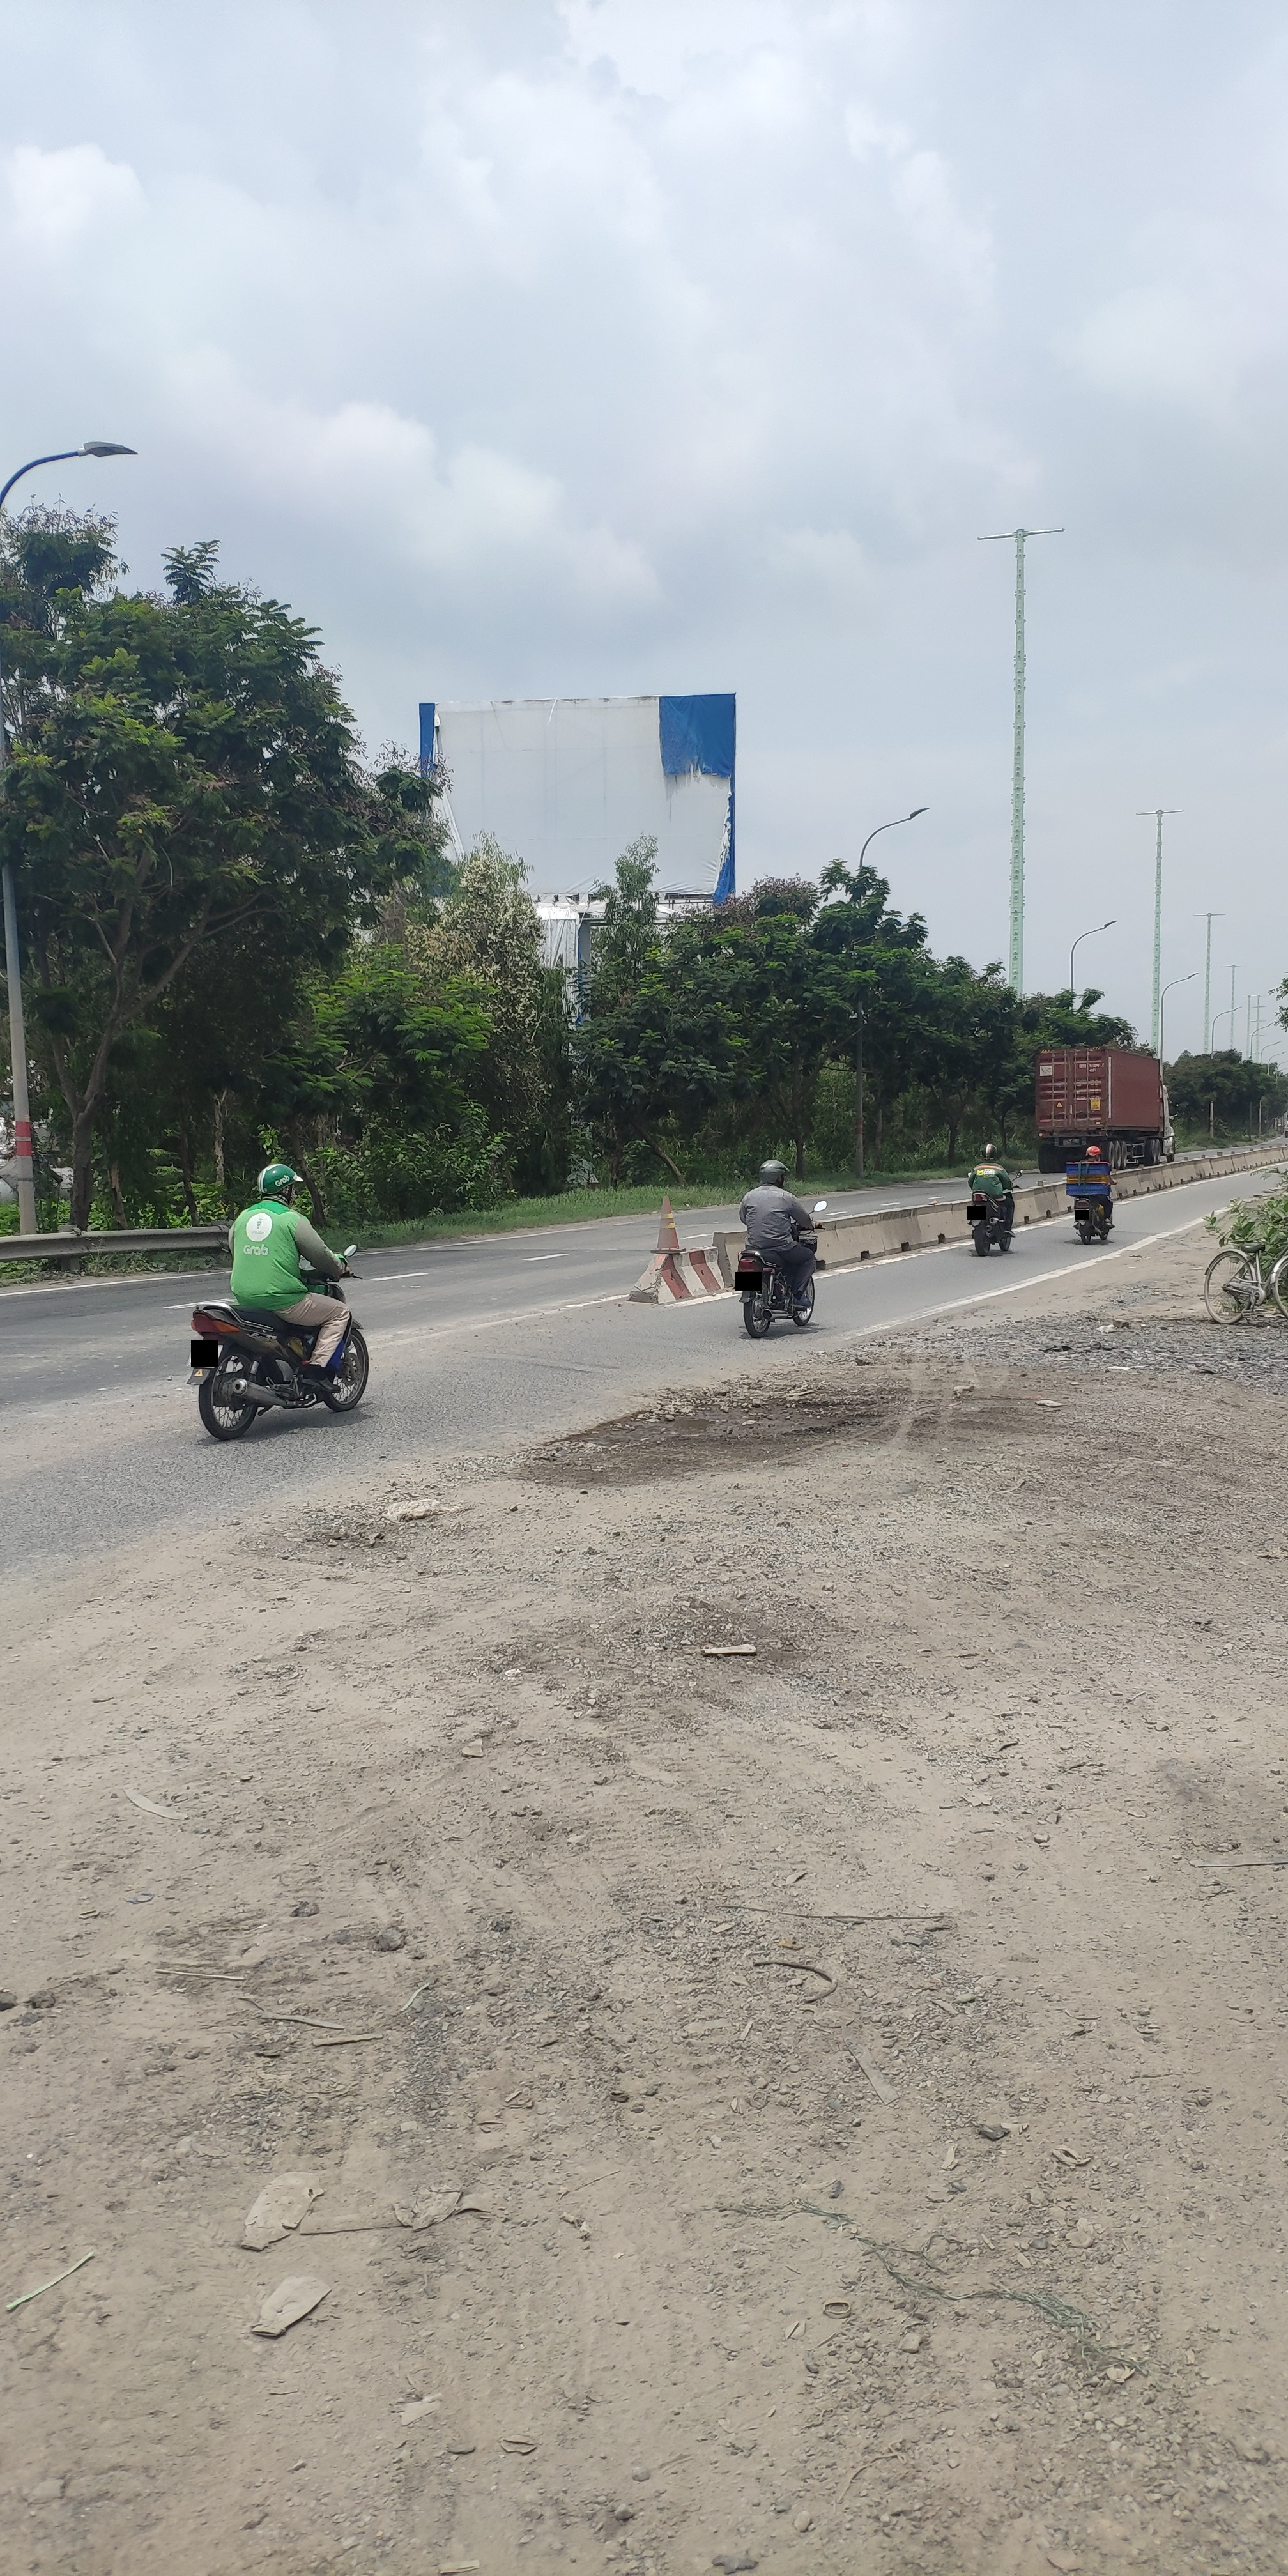hole: (628, 1377, 851, 1472), (284, 1505, 421, 1572)
